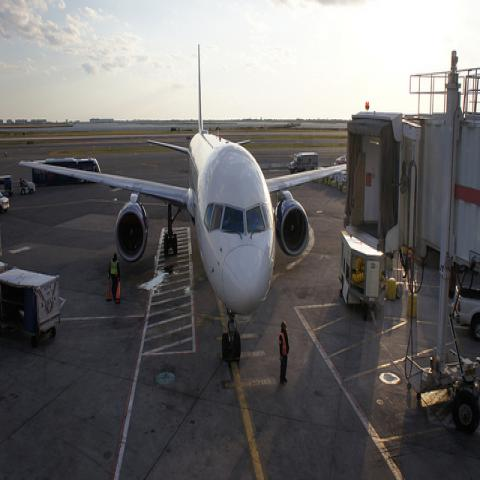car: (0, 191, 8, 212)
truck: (0, 261, 62, 346), (452, 286, 480, 342), (288, 152, 319, 170), (18, 180, 36, 196)
